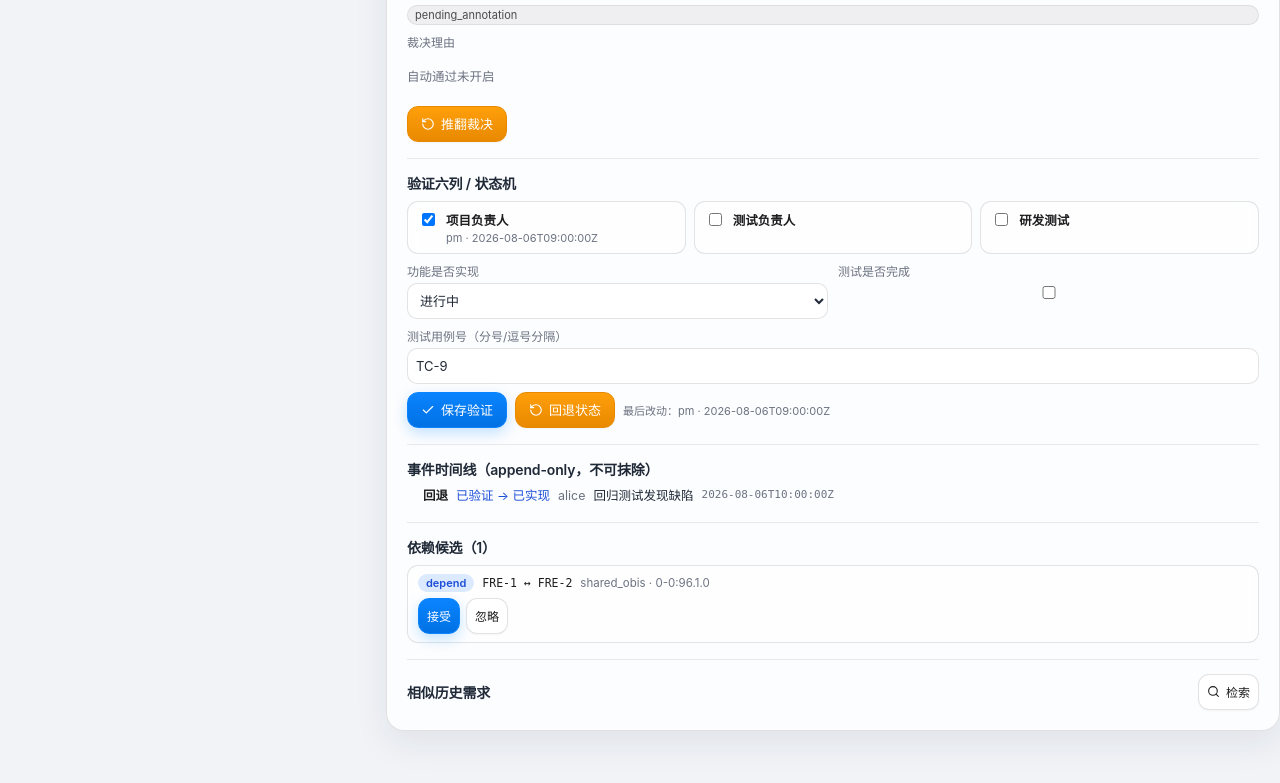
Test case: FunctionalReview (WS-F) › hides unconfirmed (draft) library entries by default and reveals them via the toggle (S1-10d)
The width and height of the screenshot is (1280, 783).
(page scrolled)
Click the button with test id "run-library-search".
click(1228, 692)  # box x1=1198 y1=674 x2=1259 y2=710
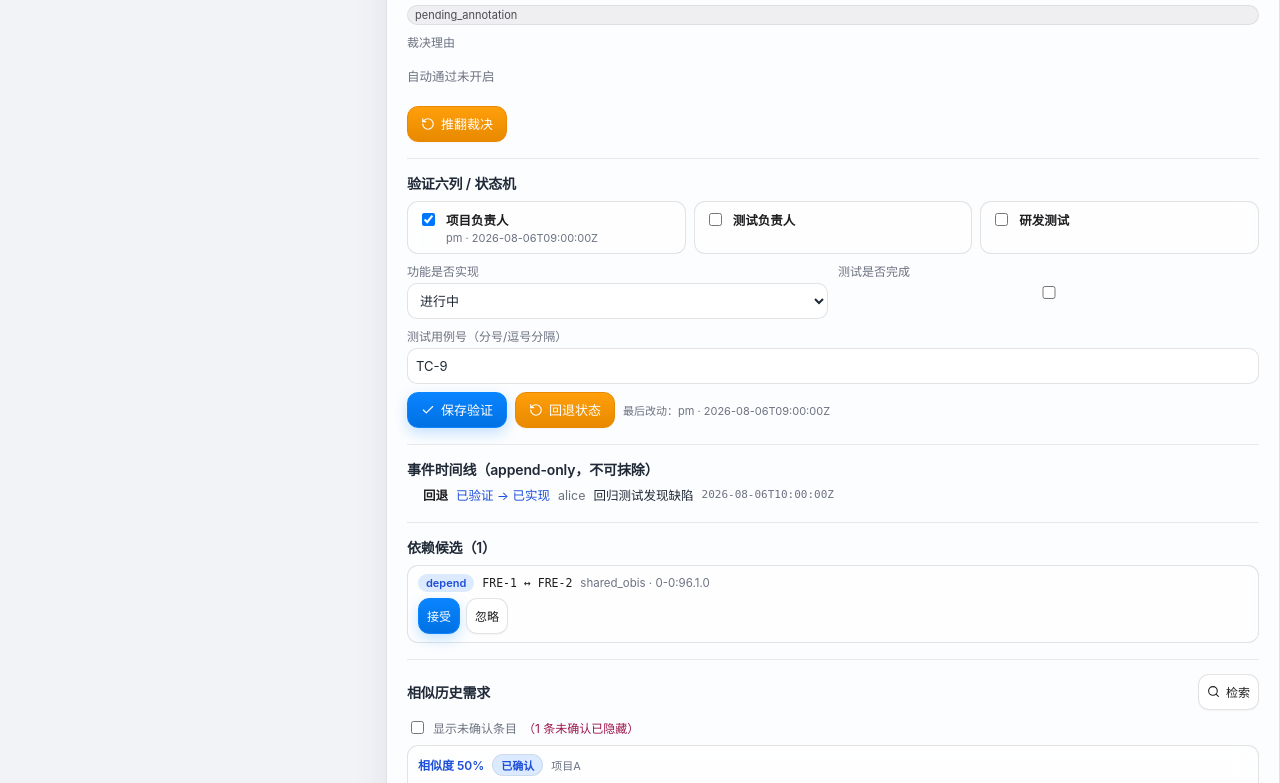
Expected: the element with test id "library-panel" does not show "草稿历史需求"
Result: the element with test id "library-panel" shows "1 条未确认已隐藏" at x1=523 y1=721 x2=639 y2=736
# 勾选「显示未确认」后草稿条目出现
Click the checkbox with test id "toggle-unconfirmed-library".
click(418, 727)  # box x1=411 y1=721 x2=424 y2=734
(page scrolled)
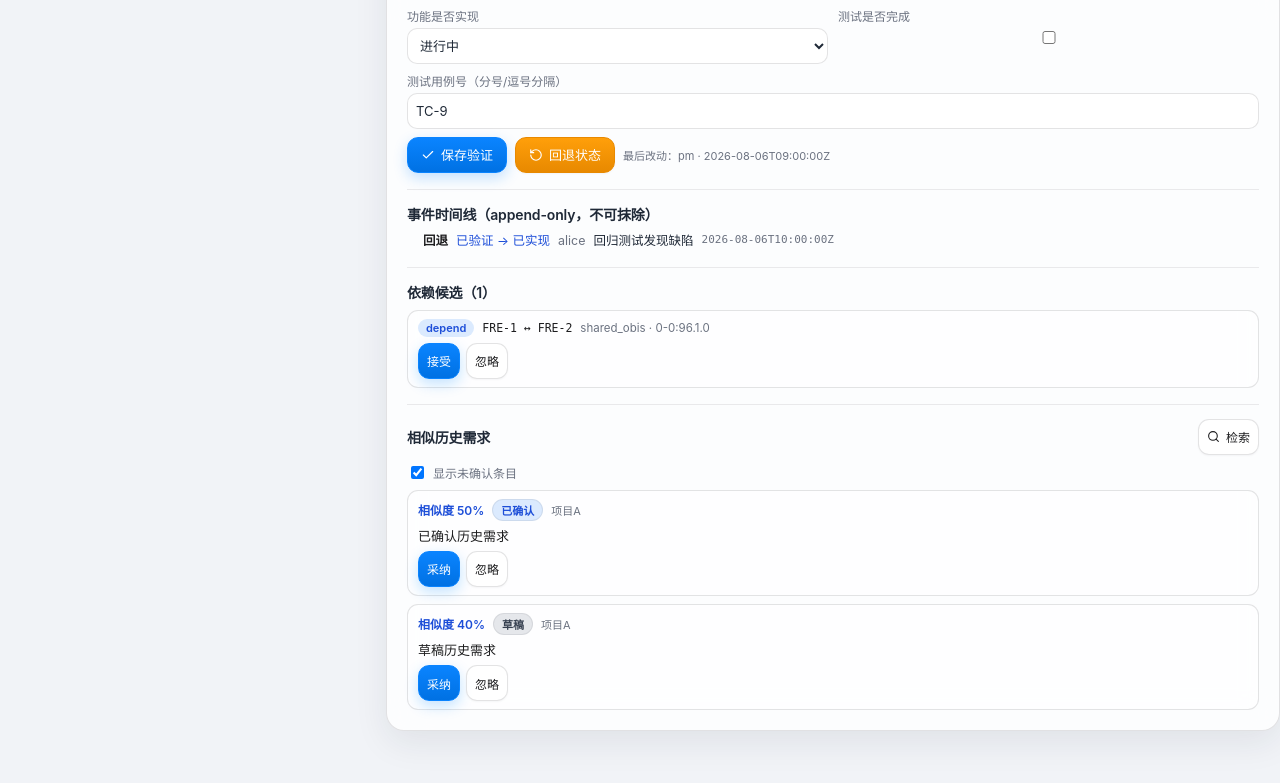
Result: the element with test id "library-panel" shows "草稿历史需求" at x1=418 y1=642 x2=496 y2=658
